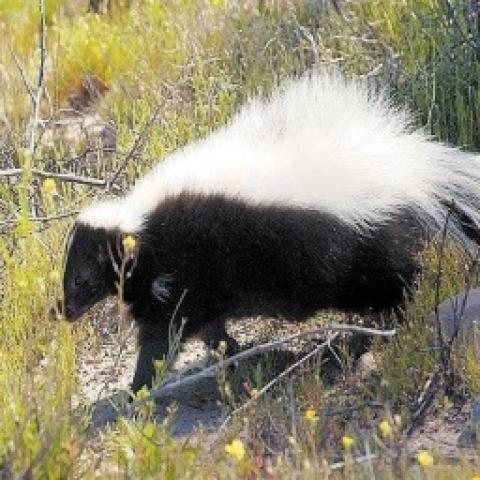small_animal: (49, 65, 478, 406)
